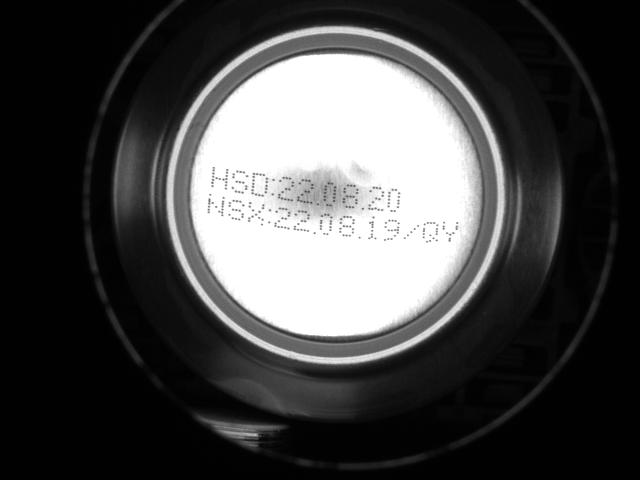.: (315, 189, 321, 207), (311, 219, 317, 237), (359, 192, 365, 210), (355, 223, 361, 241)
/: (402, 220, 419, 243)
0: (322, 179, 338, 209), (385, 185, 401, 215), (317, 210, 333, 240)
1: (367, 215, 378, 241)
2: (277, 173, 295, 203), (295, 175, 313, 205), (272, 202, 290, 232), (292, 206, 310, 236), (366, 182, 384, 212)
8: (341, 181, 359, 211), (337, 212, 355, 242)
9: (382, 217, 401, 245)
:: (270, 176, 276, 197), (266, 205, 272, 226)
D: (250, 170, 269, 197)
H: (209, 162, 230, 193)
N: (207, 193, 225, 218)
Q: (421, 218, 438, 245)
S: (230, 167, 249, 195), (226, 195, 245, 223)
X: (246, 199, 265, 228)
Y: (442, 216, 460, 246)
